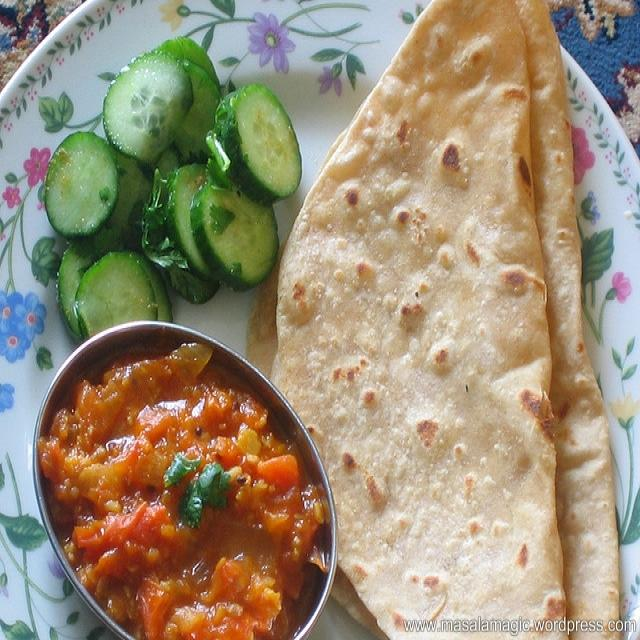chapathi: (265, 0, 575, 640)
